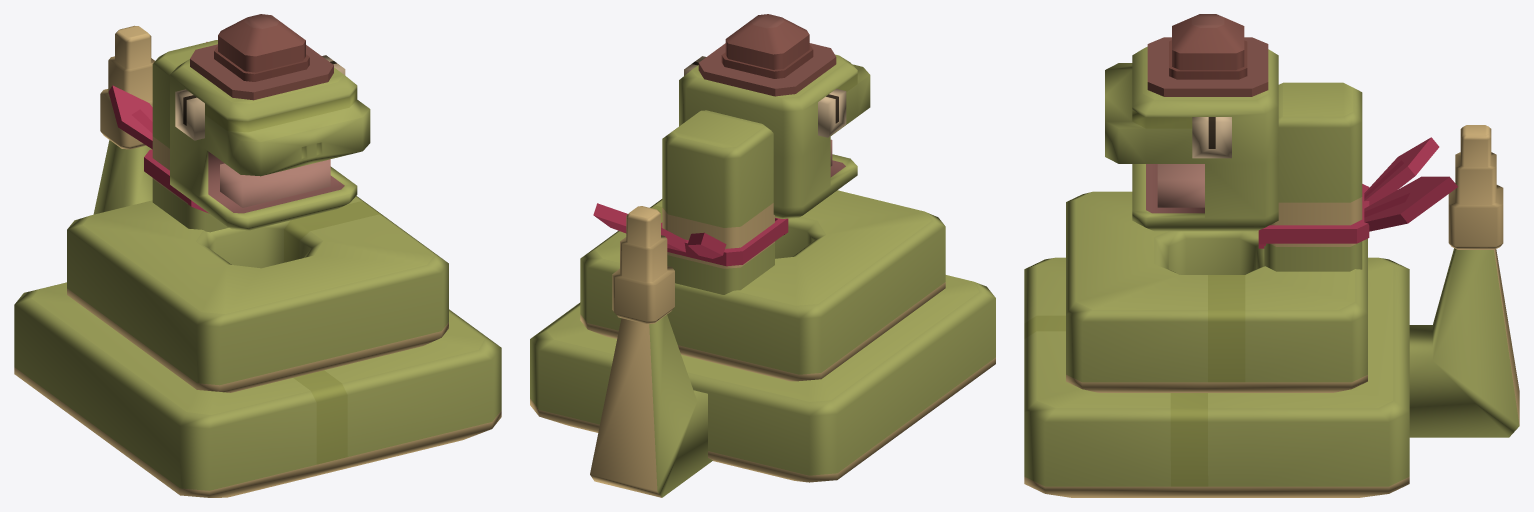
File: PM23_CowboyHat_R.fbx
3 renders of one model, left to right at view 1: azimuth 30°, elevation 25°; view 2: azimuth 150°, elevation 25°; view 3: azimuth 270°, elevation 25°, orthographic. The views are drawn at different scales.
Visible parts, largest first — view 1: model; view 2: model; view 3: model.
Part boxes in pixels (x1,y1,x2,y2): model: (14,14,501,497); model: (530,14,995,497); model: (1024,14,1519,497).
Bounding box in the file's own units: 1.72 × 1.98 × 2.21.
